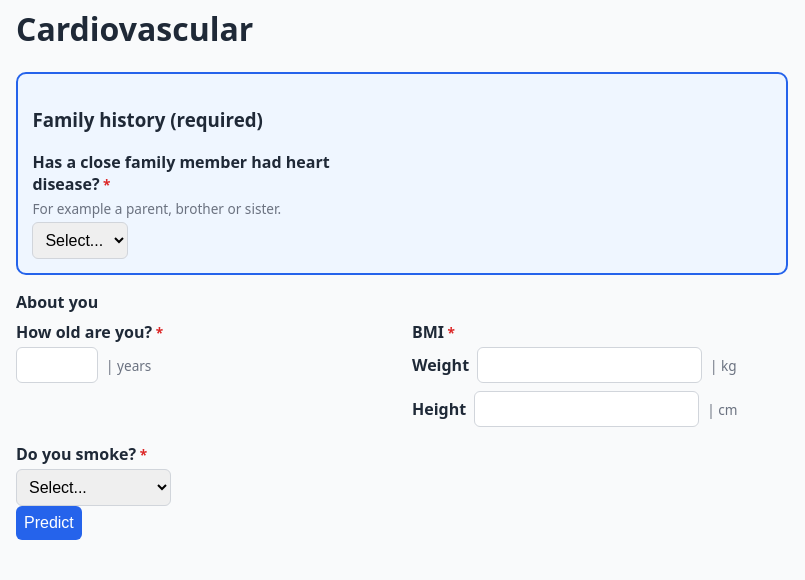
Test: Predict form › shows the computed BMI from weight and height
Step 1. Type "70" into the number field labelled "Weight" → (590, 365), box [477,347,702,383]
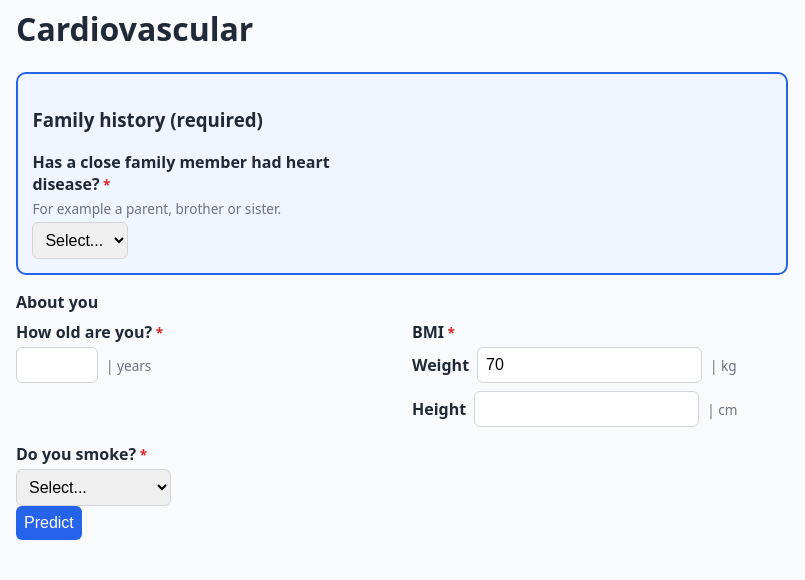
Step 2. Type "175" into the number field labelled "Height" → (587, 409), box [474,391,699,427]
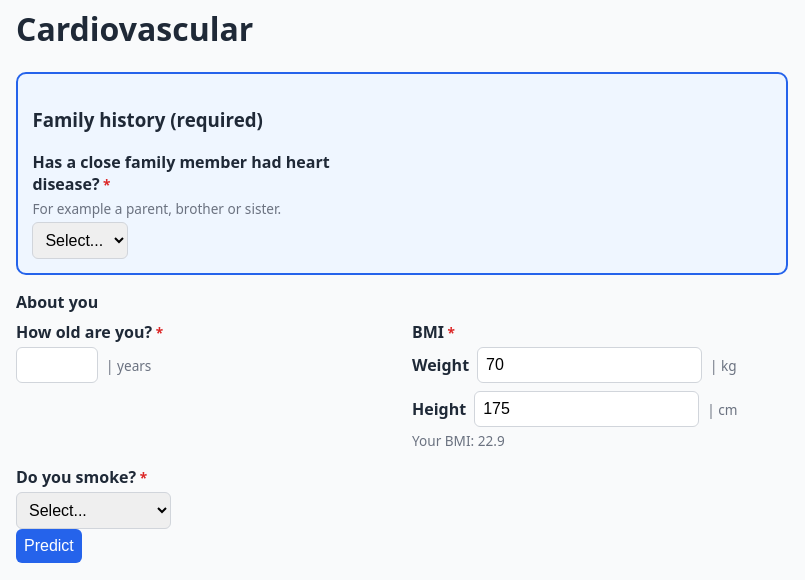
Expected: the text "Your BMI: 22.9" is shown, [412,431,505,450]
